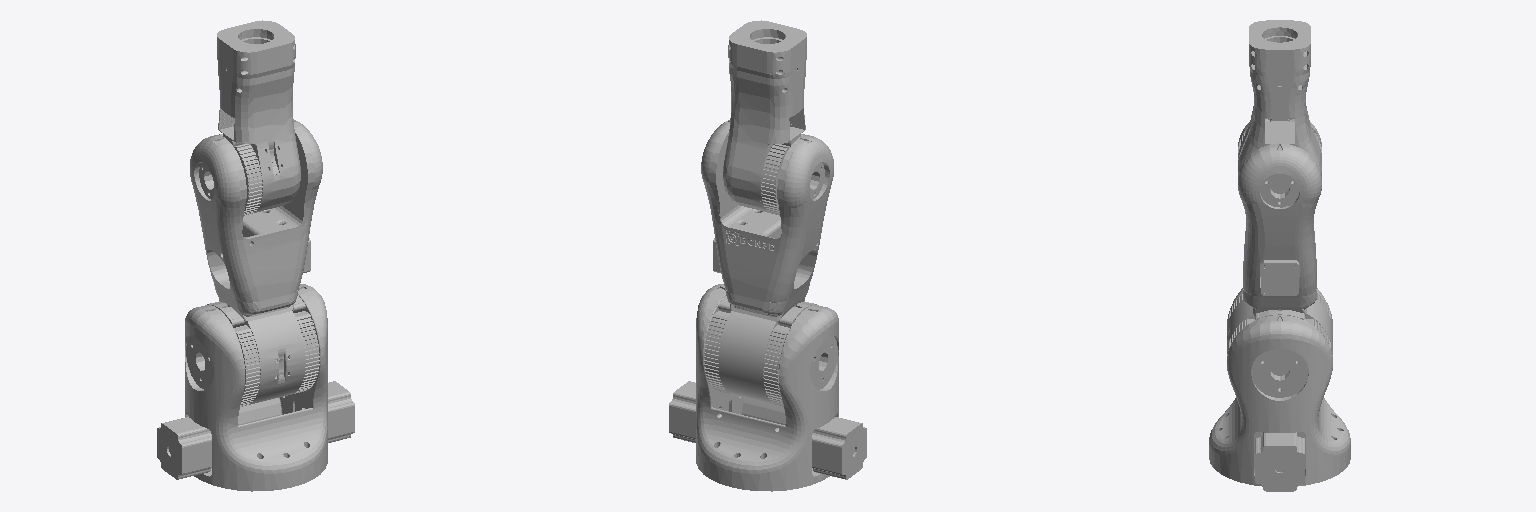
robot.urdf — moveo:
<?xml version='1.0'?>
<robot
  name="moveo">	

    <link name="world"/>
  
  <joint name="fixed" type="fixed">
    <parent link="world"/>
    <child link="base_link"/>
  </joint>
  
  <!-- BASE LINK -->
  <link
    name="base_link">
   
    <inertial>
      <origin
        xyz="0.005 0.065 0.003"
        rpy="0 0 0" />
      <mass
        value="5.0" />
      <inertia
        ixx="0.142"
	ixy="0.002"
	ixz="1.0E-09"
	iyy="0.139"
	iyz="0.004"
	izz="0.273"/>
        
    </inertial>
    
    <visual>
      <origin
        xyz="0 0 0"
        rpy="0 0 0" />
      <geometry>
        <mesh
          filename="package://iteration_3/meshes/base_link.stl" />
      </geometry>
      <material
        name="">
        <color
          rgba="0.75294 0.75294 0.75294 1" />
      </material>
    </visual>
    
    <collision>
      <origin
        xyz="0 0 0"
        rpy="0 0 0" />
      <geometry>
        <mesh
          filename="package://iteration_3/meshes/base_link.stl" />
      </geometry>
    </collision>
  </link>
  



  <!--   LINK 1   -->

  <link
    name="Link_1">
    <inertial>
      <origin
        xyz="-1.184E-05 -8.007E-06 0.161"
        rpy="0 0 0" />
      <mass
        value="3" />
      <inertia
        ixx="0.007"
	ixy="4.973E-09"
	ixz="1.485E-06"
	iyy="0.011"
	iyz="1.0E-09"
	izz="0.008" />
    </inertial>
    
    <visual>
      <origin
        xyz="0 0 0"
        rpy="0 0 0" />
      <geometry>
        <mesh
          filename="package://iteration_3/meshes/Link_1.stl" />
      </geometry>
      <material
        name="">
        <color
          rgba="0.75294 0.75294 0.75294 1" />
      </material>
    </visual>
    
    <collision>
      <origin
        xyz="0 0 0"
        rpy="0 0 0" />
      <geometry>
        <mesh
          filename="package://iteration_3/meshes/Link_1.stl" />
      </geometry>
    </collision>
  </link>
  
  
  
  <joint
    name="Joint_1"
    type="revolute">
    <origin
      xyz="0 0 0.092"
      rpy="0 0 0" />
    <parent
      link="base_link" />
    <child
      link="Link_1" />
    <axis
      xyz="0 0 1" />
    <limit
      lower="-1.5707"
      upper="1.5707"
      effort="5.0"
      velocity="1.0" />
  </joint>

  <!--   LINK 2   -->

  <link
    name="Link_2">
    <inertial>
      <origin
        xyz="0.002 -5.960E-05 0.31"
        rpy="0 0 0" />
      <mass
        value="2.5" />
      <inertia
        ixx="0.017"
	ixy="1.0E-09"
	ixz="1.0E-09"
	iyy="0.018"
	iyz="1.108E-05"
	izz="0.004" />
    </inertial>
    <visual>
      <origin
        xyz="0 0 0"
        rpy="0 0 0" />
      <geometry>
        <mesh
          filename="package://iteration_3/meshes/Link_2.stl" />
      </geometry>
      <material
        name="">
        <color
          rgba="0.75294 0.75294 0.75294 1" />
      </material>
    </visual>
    <collision>
      <origin
        xyz="0 0 0"
        rpy="0 0 0" />
      <geometry>
        <mesh
          filename="package://iteration_3/meshes/Link_2.stl" />
      </geometry>
    </collision>
  </link>
 
  <joint
    name="Joint_2"
    type="revolute">
    <origin
      xyz="0 0 0.14"
      rpy="0 0 0" />
    <parent
      link="Link_1" />
    <child
      link="Link_2" />
    <axis
      xyz="-1 0 0" />
    <limit
      lower="-1.700"
      upper="1.700"
      effort="5.0"
      velocity="1.0" />
  </joint>
  
  <!--   LINK 3   -->  

  <link
    name="Link_3">
    <inertial>
      <origin
        xyz="0.00 0.00 0.506"
        rpy="0 0 0" />
      <mass
        value="1.2" />
      <inertia
	ixx=" 0.003"
	ixy="6.126E-08"
	ixz="1.0E-09"
	iyy="0.003"
	iyz="1.274E-06"
	izz="0.001" />
    </inertial>
    
    <visual>
      <origin
        xyz="0 0 0"
        rpy="0 0 0" />
      <geometry>
        <mesh
          filename="package://iteration_3/meshes/Link_3.stl" />
      </geometry>
      <material
        name="">
        <color
          rgba="0.75294 0.75294 0.75294 1" />
      </material>
    </visual>
    
    <collision>
      <origin
        xyz="0 0 0"
        rpy="0 0 0" />
      <geometry>
        <mesh
          filename="package://iteration_3/meshes/Link_3.stl" />
      </geometry>
    </collision>
  </link>
 
  <joint
    name="Joint_3"
    type="revolute">
    <origin
      xyz="0 0 0.221"
      rpy="0 0 0" />
    <parent
      link="Link_2" />
    <child
      link="Link_3" />
    <axis
      xyz="-1 0 0" />
    <limit
      lower="-1.963"
      upper="1.963"
      effort="5.0"
      velocity="1.0" />
  </joint>
   
   

  

</robot>


  

--- What the picture shows (computed from the rendered views, not written in the file) ---
Views: 3 orthographic renders of the robot side by side, from view 1: azimuth 30°, elevation 25°; view 2: azimuth 150°, elevation 25°; view 3: azimuth 270°, elevation 25°.
Model moveo with 5 links and 4 joints (3 revolute, 1 fixed), rooted at world, posed every joint at zero.
Visible links, largest first — view 1: Link_2, Link_1, Link_3; view 2: Link_2, Link_1, Link_3; view 3: Link_1, Link_2, Link_3.
Boxes of the visible links, box(x1,y1,x2,y2) form: Link_2: box(190, 120, 322, 406); Link_1: box(157, 284, 354, 491); Link_3: box(217, 20, 300, 215); Link_2: box(701, 120, 833, 406); Link_1: box(669, 284, 866, 491); Link_3: box(723, 20, 806, 215); Link_1: box(1209, 288, 1350, 491); Link_2: box(1227, 119, 1332, 355); Link_3: box(1238, 20, 1321, 175).
Bounding box of the posed robot: 0.2236 × 0.16 × 0.5246 m (x, y, z).
Meshes: 4 distinct files referenced, 3 mesh visuals loaded (3 binary STL); not drawn: 1 (reference not matched to a file when rendering).
